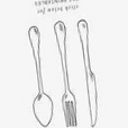fork: (48, 18, 88, 128)
